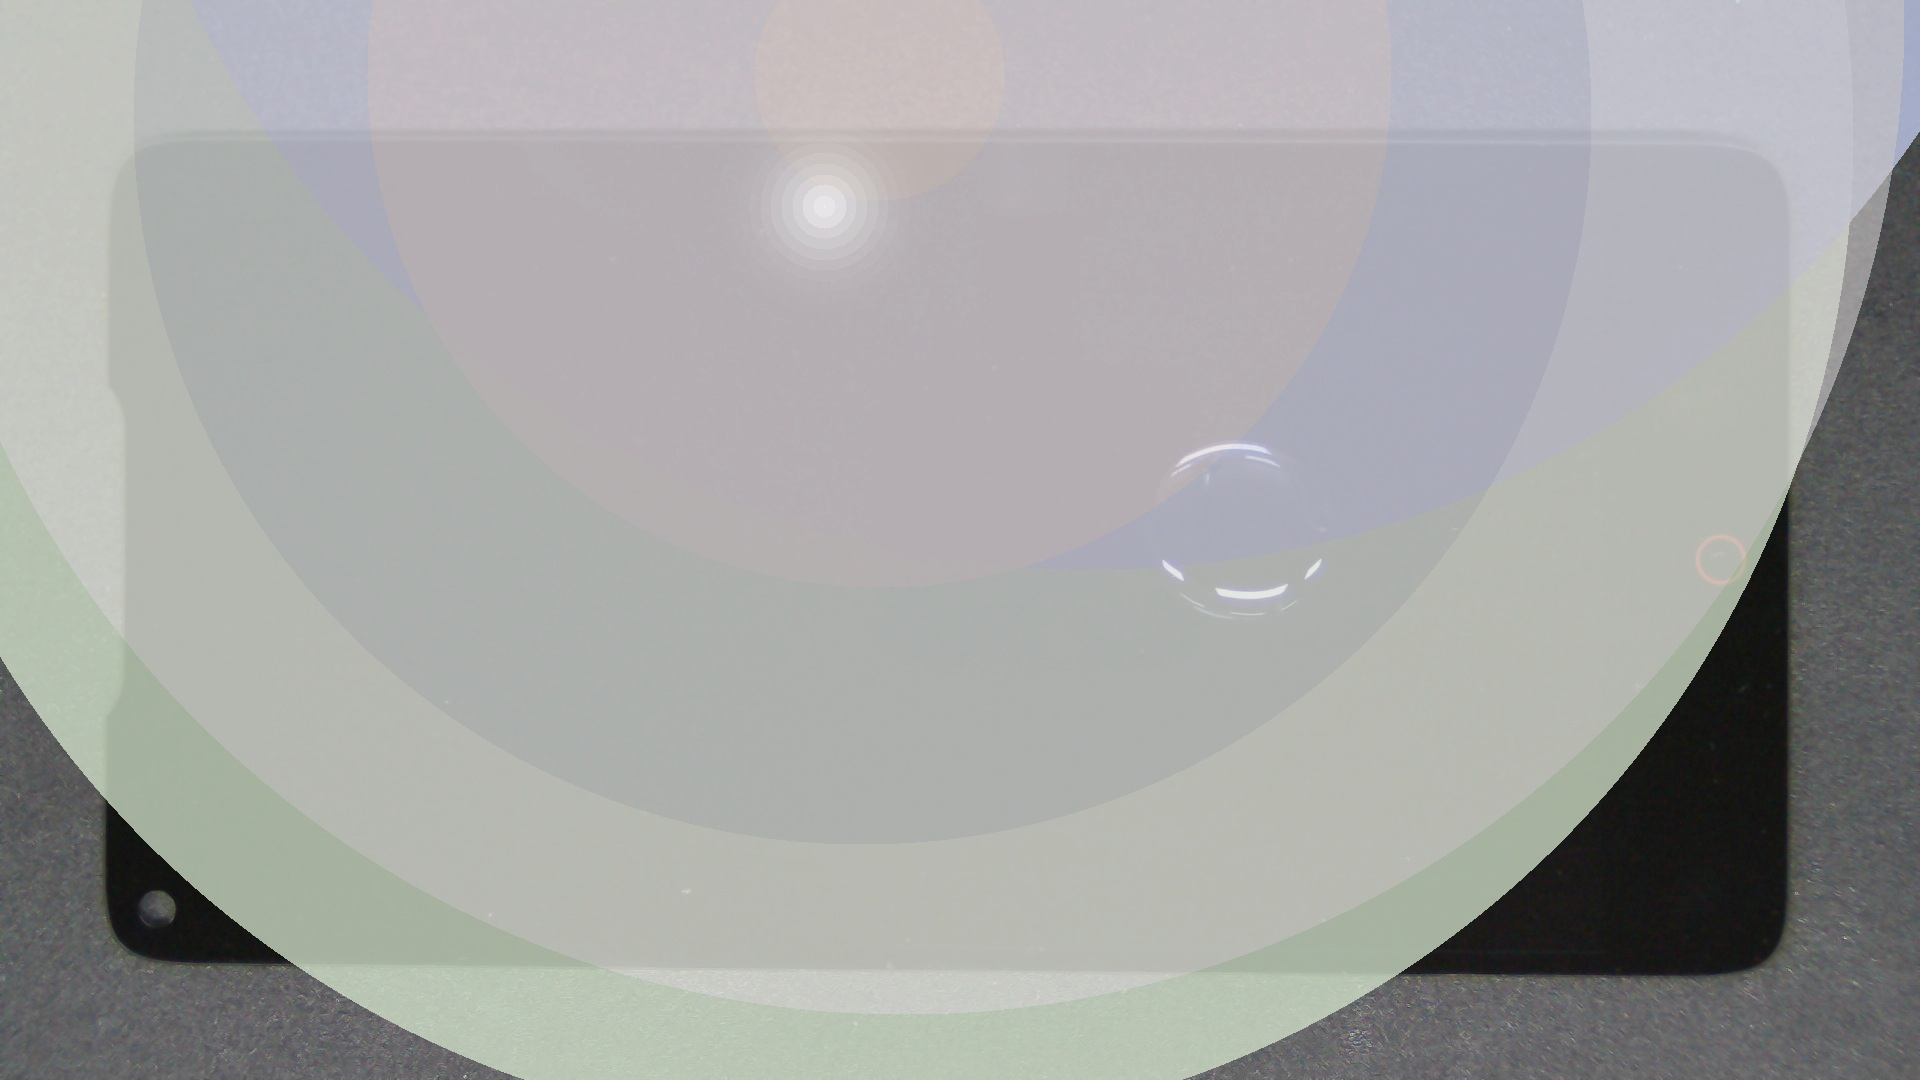oil: (617, 219, 1849, 661)
